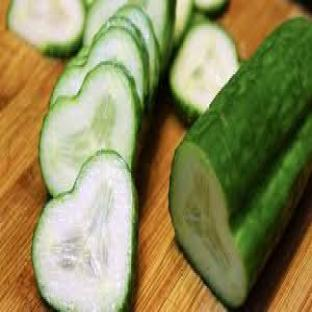Cucumber: (170, 19, 311, 306), (33, 153, 138, 311), (40, 64, 141, 196), (50, 19, 148, 107), (170, 21, 239, 122), (117, 4, 160, 103), (67, 47, 89, 67)
